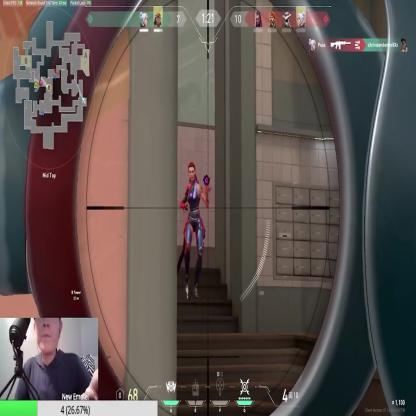enemy: (178, 162, 210, 303)
enemy_head: (188, 164, 196, 182)
